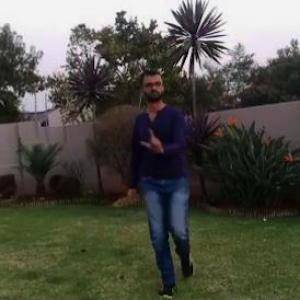land_hand: (141, 116, 174, 157)
